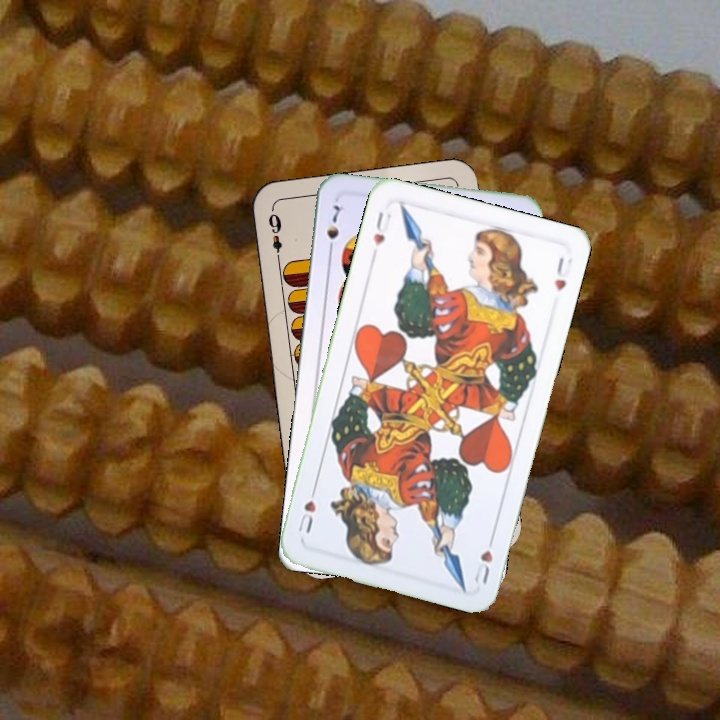E9: (264, 209, 285, 266)
HU: (469, 530, 497, 587), (368, 207, 394, 260)
S7: (322, 201, 346, 257)
